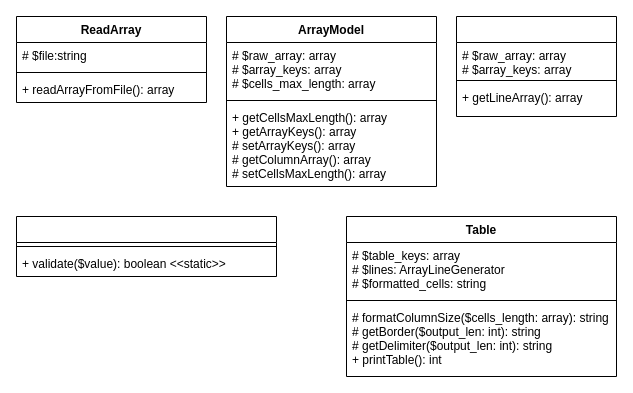
Some shapes in this 633 by 393 pixel diagram are drawn without their labels. Each missing label, with the box of its shape:
ArrayLineGenerator: (456, 16, 616, 116)
ValueValidation: (16, 216, 276, 276)
